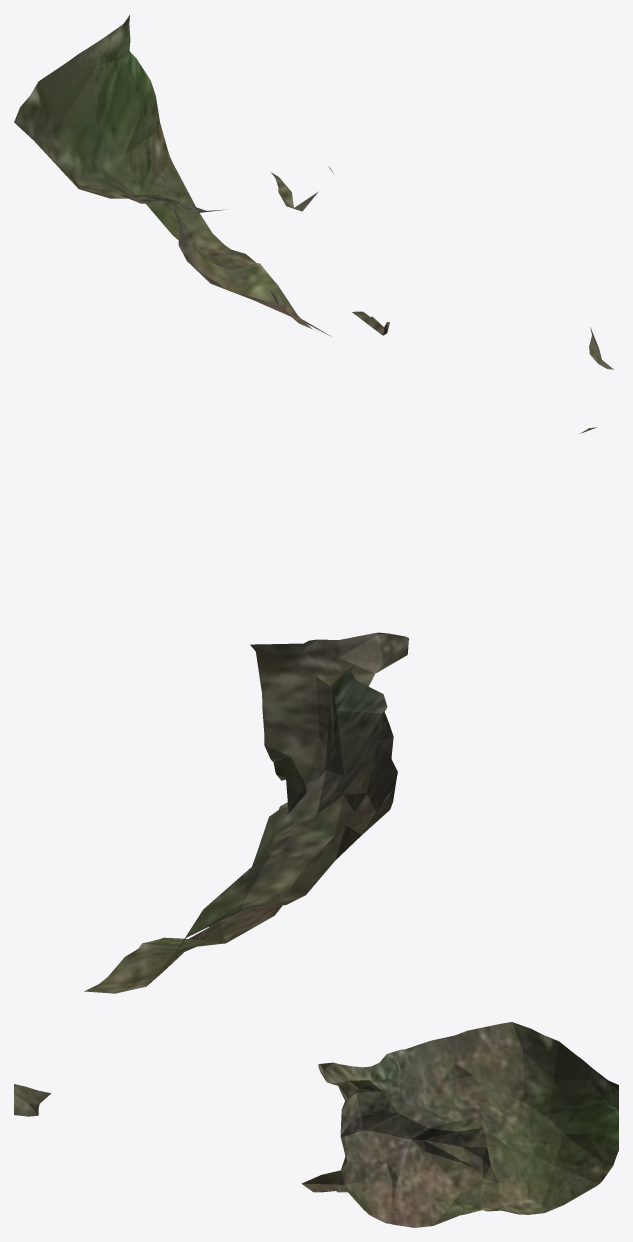
The picture shows the model from 3 angles, top to bottom: view 1: azimuth 30°, elevation 25°; view 2: azimuth 150°, elevation 25°; view 3: azimuth 270°, elevation 25°; orthographic projection. The views are drawn at different scales.
Size of the model in its own units: 1.64 by 1.45 by 5.9.
Materials: 1 (1 with a texture image).
